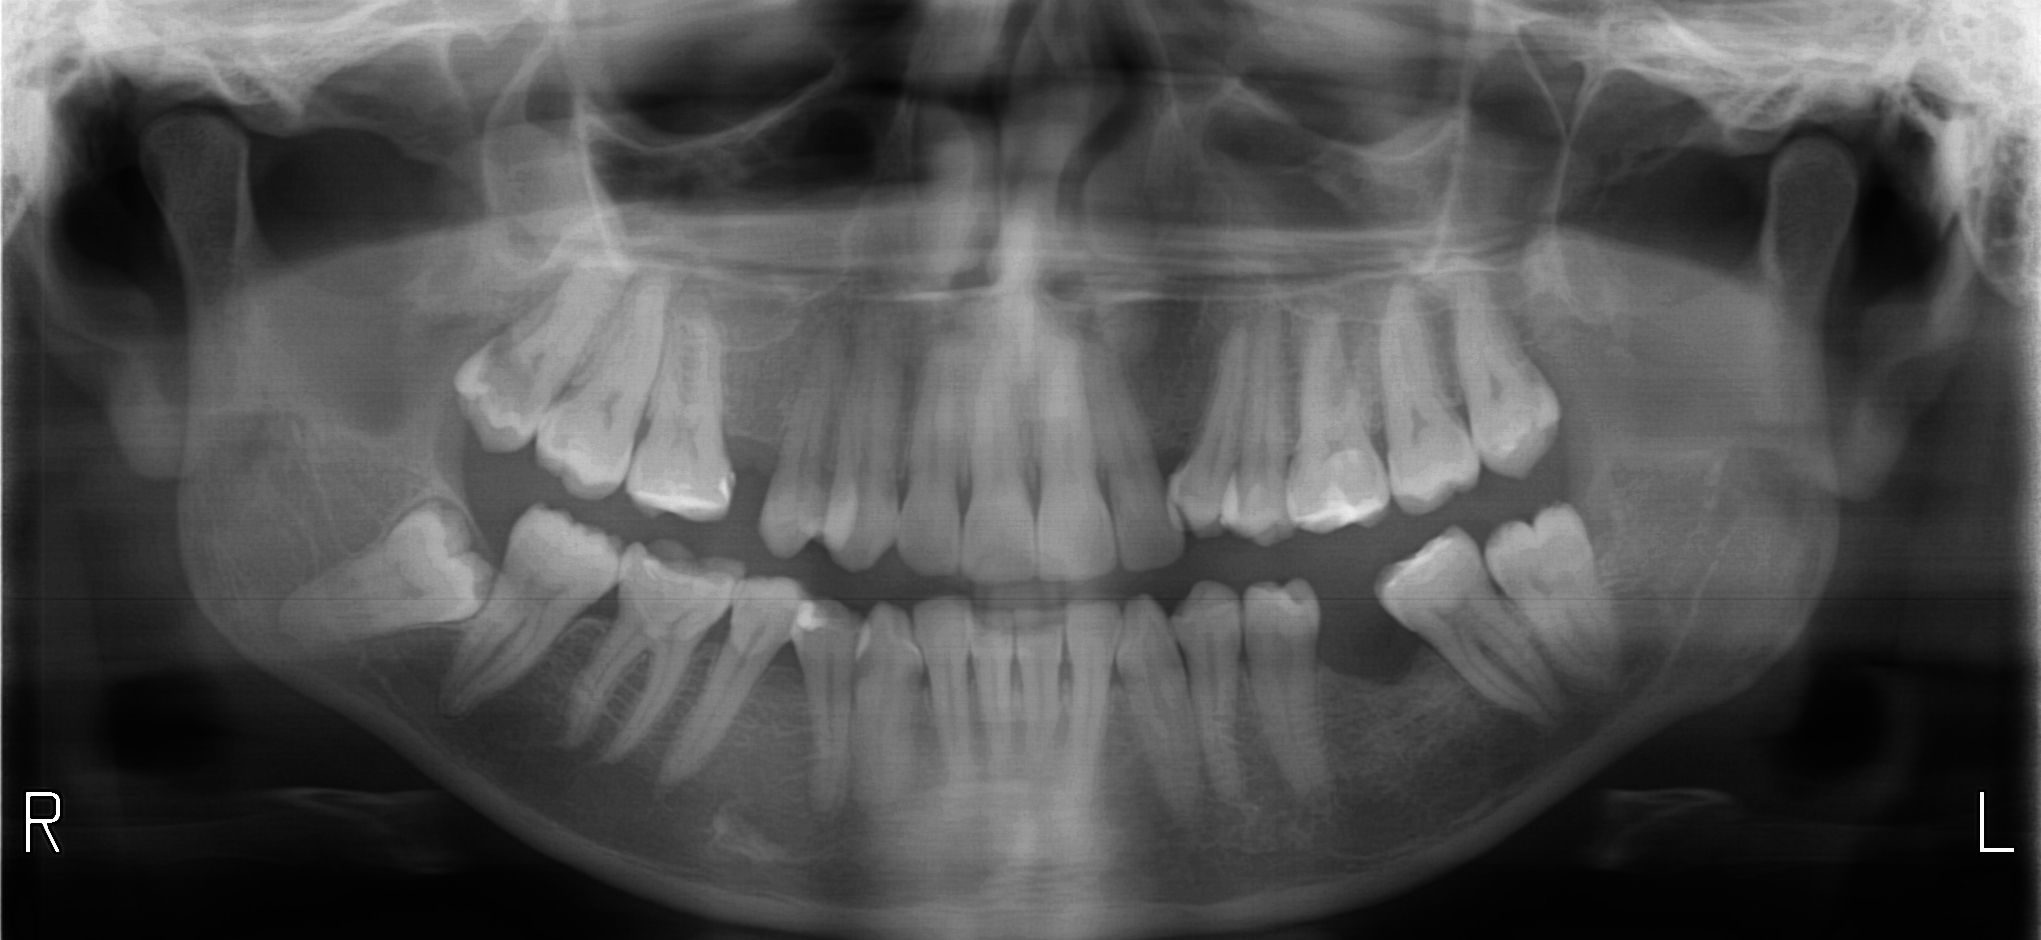cavity: (480, 322, 544, 417), (853, 651, 866, 702), (907, 670, 919, 693)
